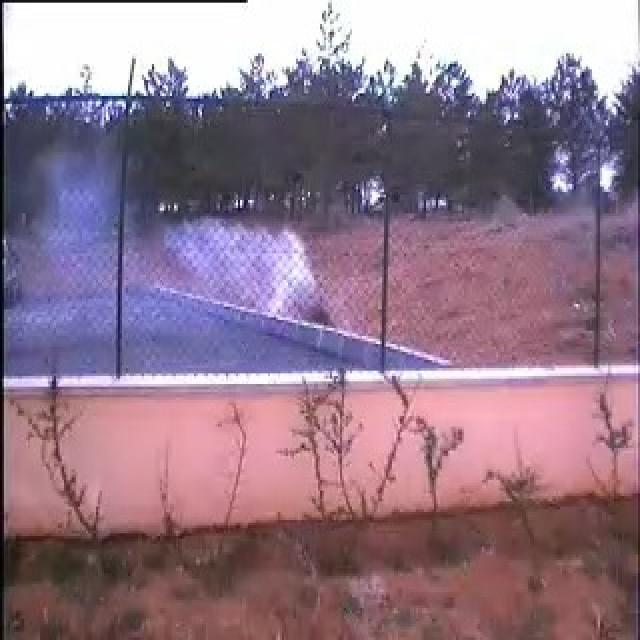smoke: (61, 145, 337, 368)
